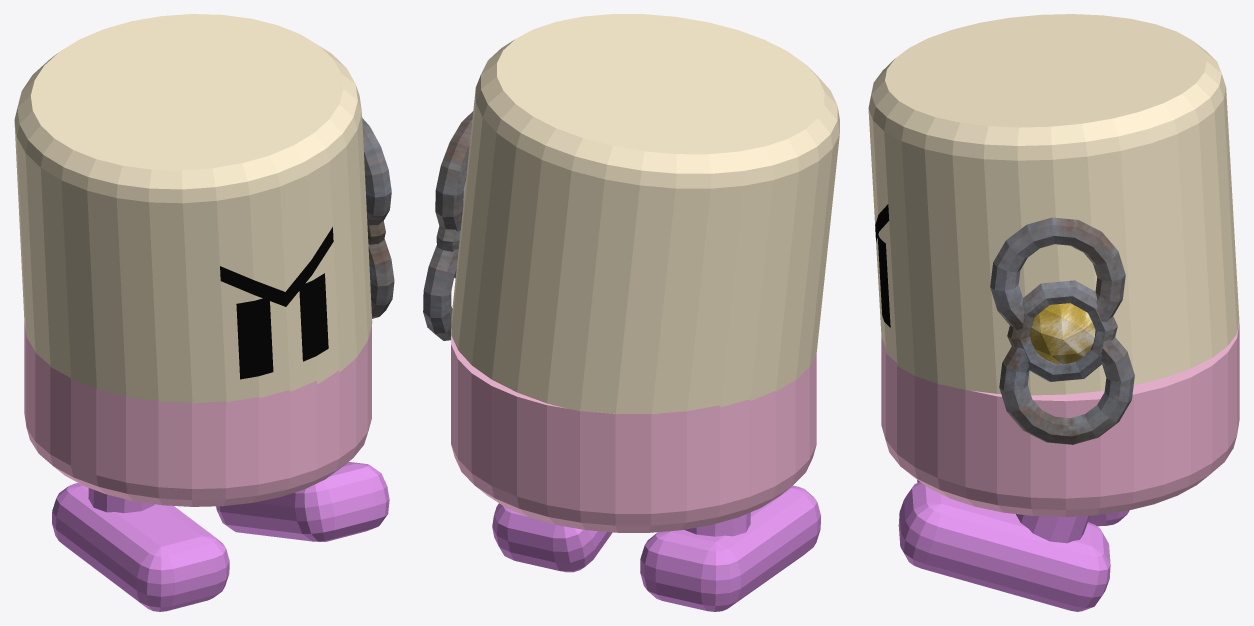
Rendered from Toasters025.obj.
The picture shows the model from 3 angles, left to right: view 1: azimuth 30°, elevation 25°; view 2: azimuth 150°, elevation 25°; view 3: azimuth 270°, elevation 25°; orthographic projection. The views are drawn at different scales.
Parts seen in each view (by area): view 1: Head, Jaw, RightLeg, LeftLeg, WindupKey; view 2: Head, Jaw, RightLeg, WindupKey, LeftLeg; view 3: Head, Jaw, WindupKey, LeftLeg.
Boxes of the visible parts, box(x1,y1,x2,y2) form: Head: box(14, 14, 372, 403); Jaw: box(24, 322, 371, 506); RightLeg: box(52, 483, 229, 611); LeftLeg: box(216, 462, 389, 541); WindupKey: box(362, 118, 394, 318); Head: box(451, 14, 839, 413); Jaw: box(451, 329, 816, 532); RightLeg: box(640, 485, 820, 611); WindupKey: box(423, 111, 473, 340); LeftLeg: box(492, 503, 612, 572); Head: box(868, 14, 1239, 395); Jaw: box(881, 323, 1239, 516); WindupKey: box(990, 217, 1134, 444); LeftLeg: box(898, 482, 1110, 611).
Size of the model in its own units: 114 by 152 by 104.
Materials: 6 (2 with a texture image).
